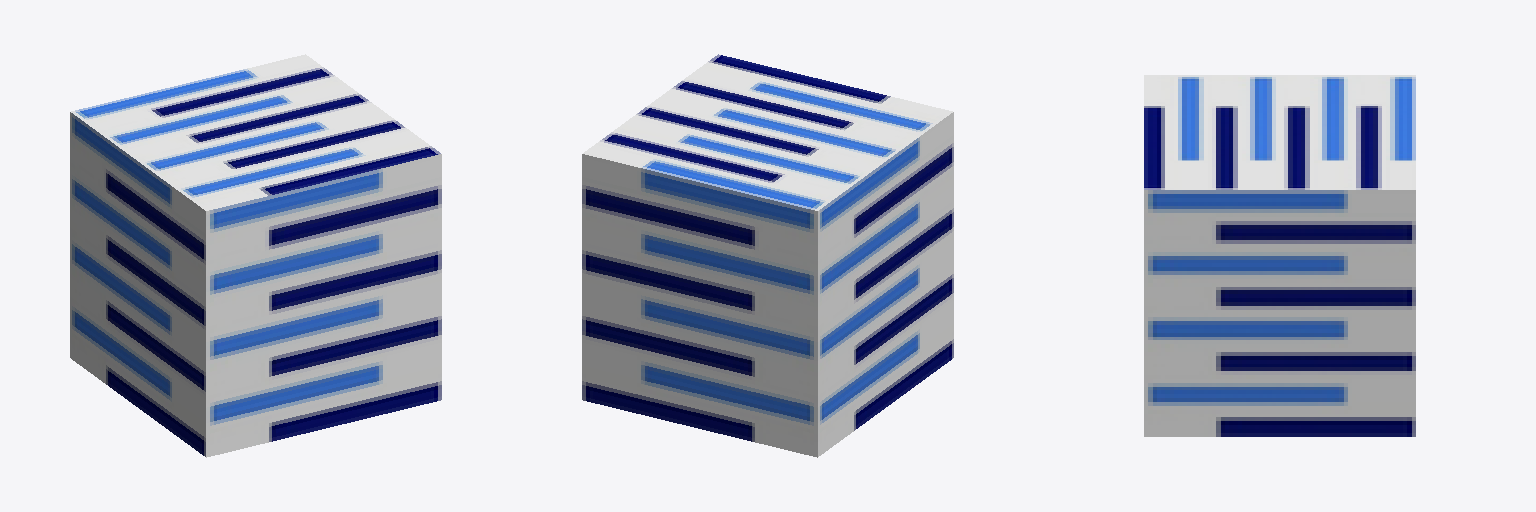
The picture shows the model from 3 angles: view 1: azimuth 30°, elevation 25°; view 2: azimuth 150°, elevation 25°; view 3: azimuth 270°, elevation 25°; orthographic projection.
Bounding box in the file's own units: 0.5774 × 0.5774 × 0.5774.
Materials: 1 (1 with a texture image).